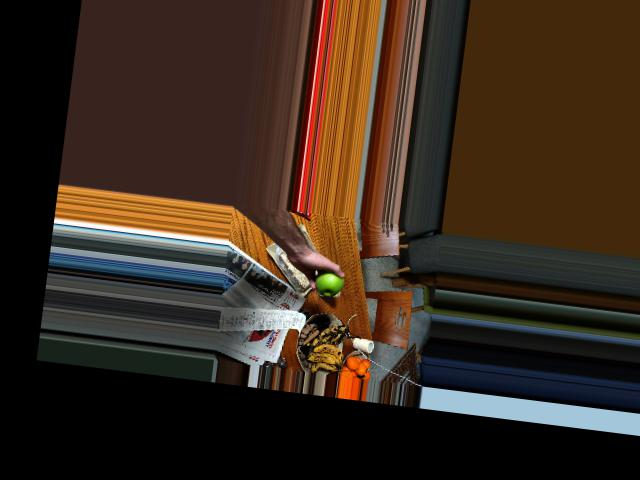apple: (310, 261, 349, 298)
